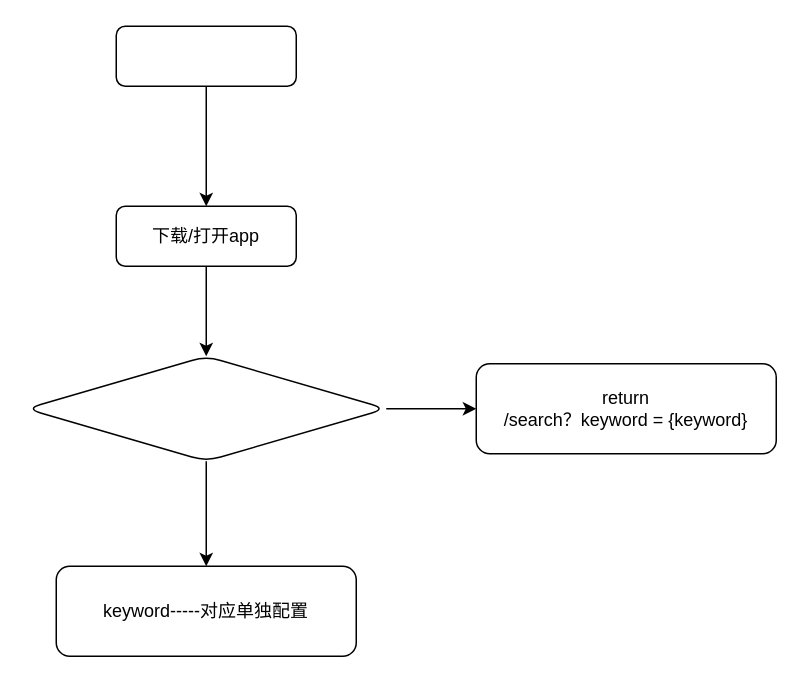
Image size: 803x683. Some labels were removed from this diagram. Here are the shapes that lost their labels. From the top down, the centre of each, then its label:
At [205,55]: "用户百度搜索".
At [205,408]: "所见所得识别用户keyword 是否有单独配置".
